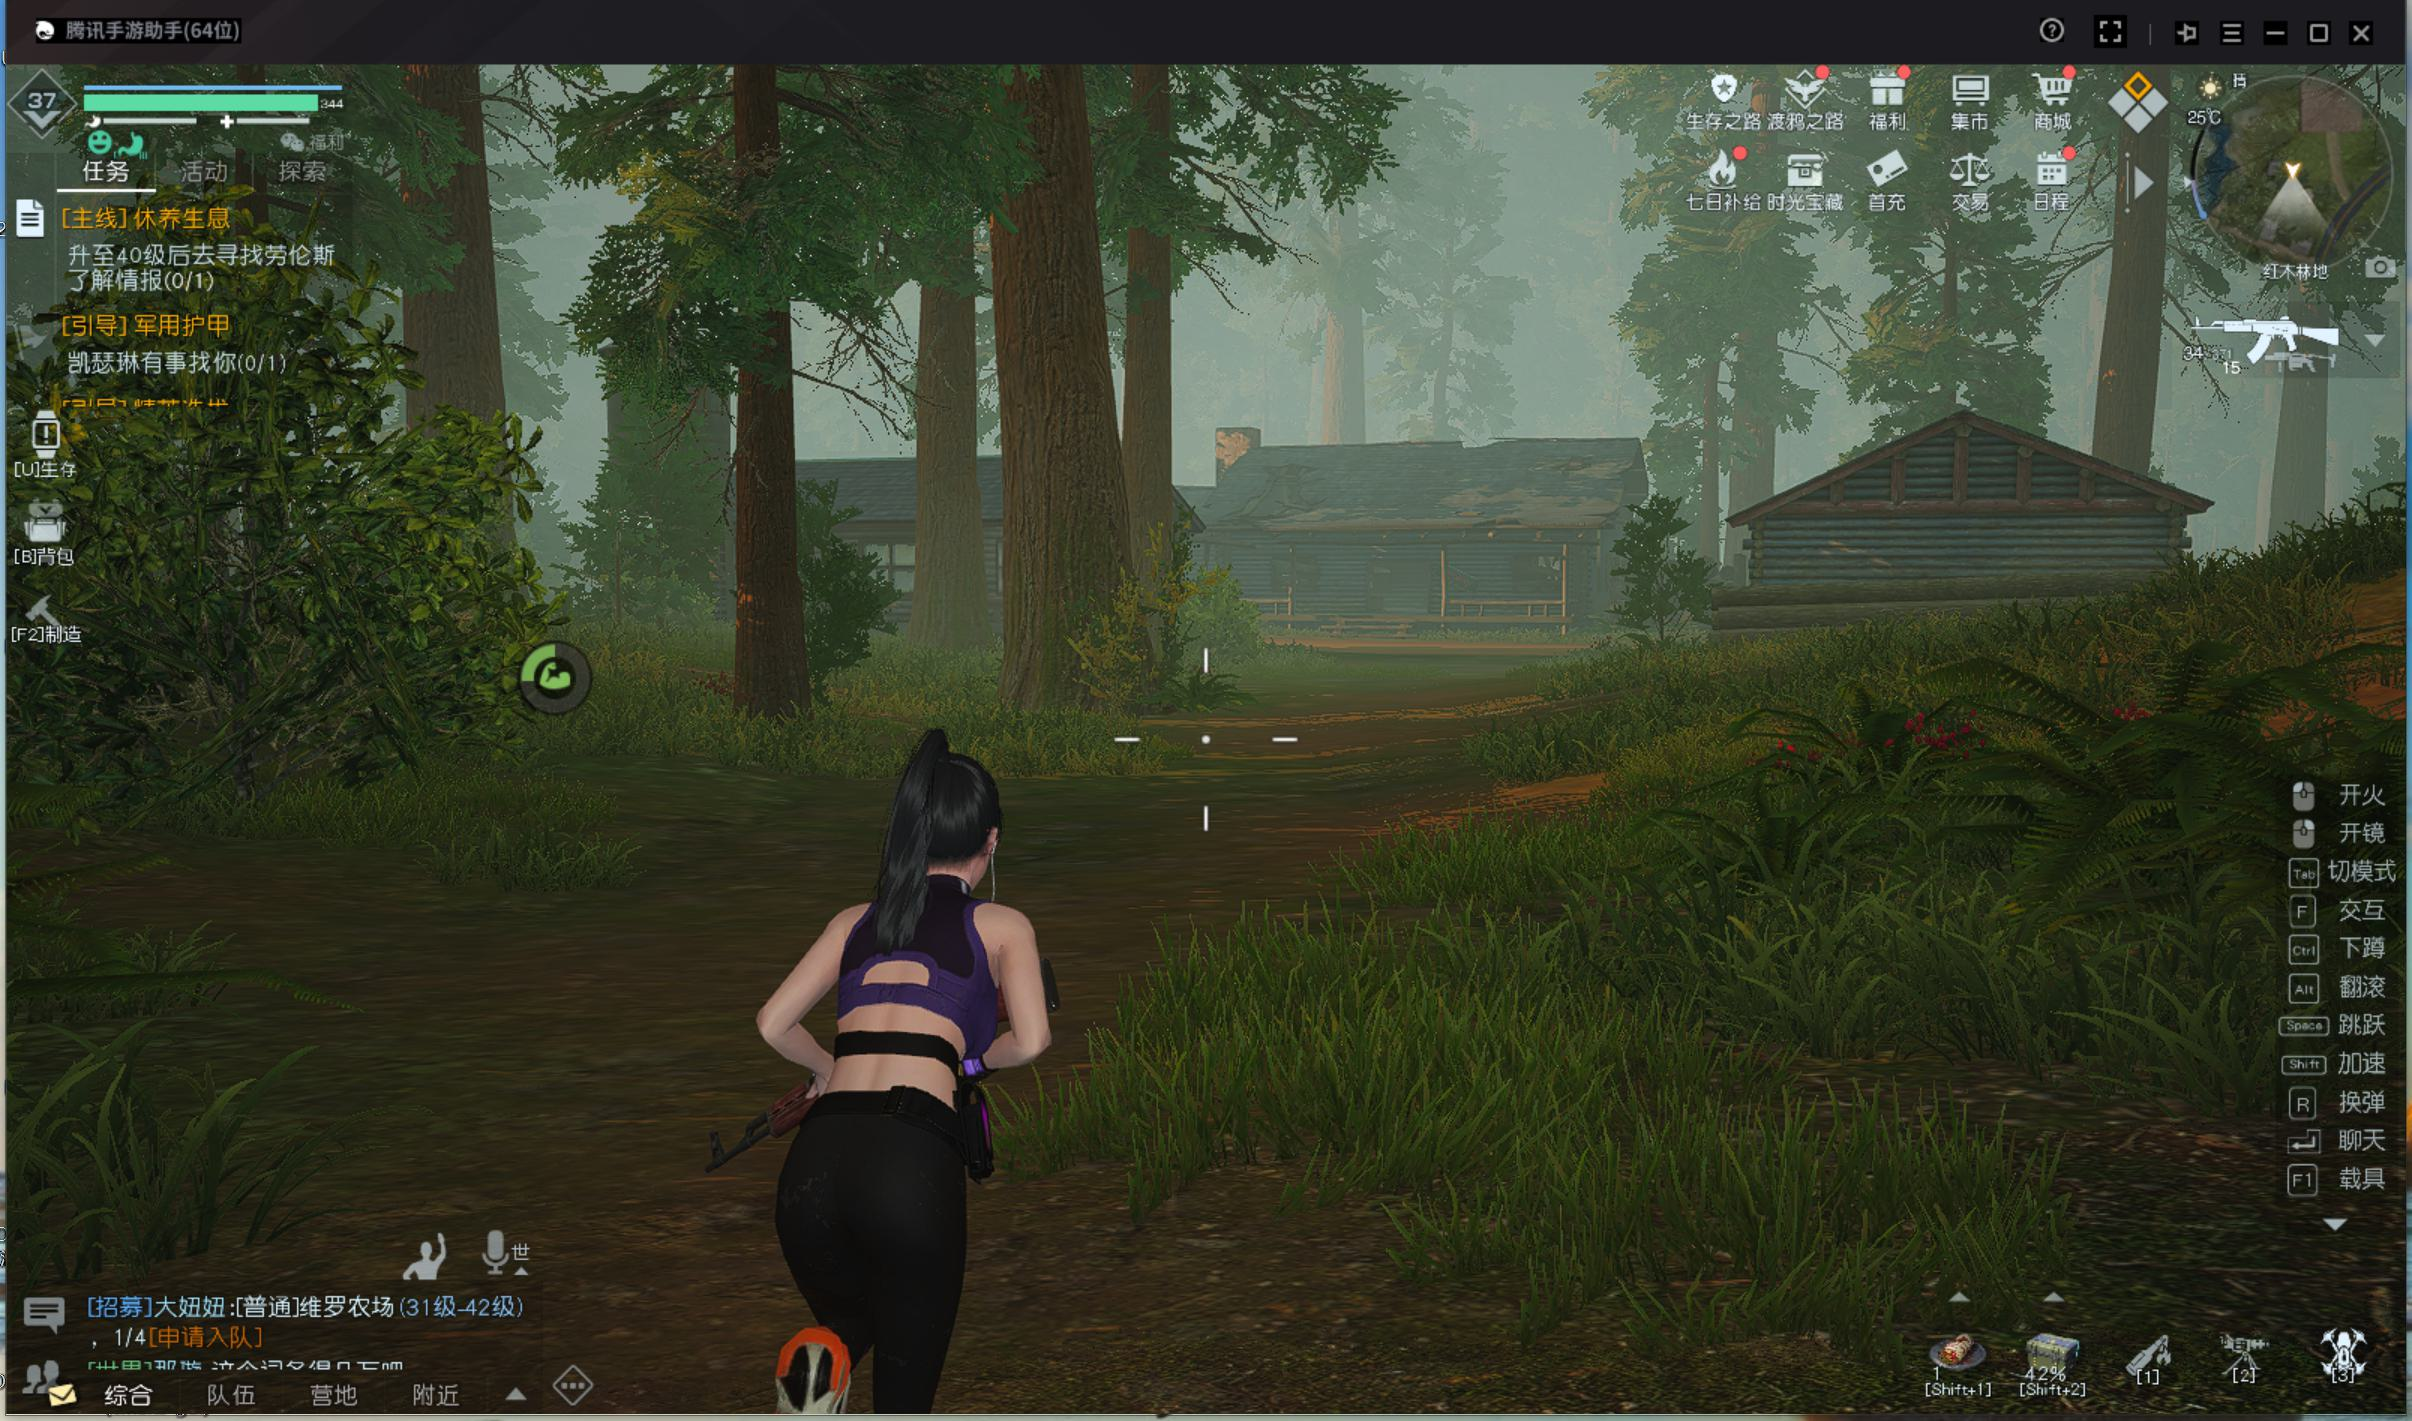tree: (988, 242, 1143, 727), (726, 262, 815, 743), (907, 232, 984, 673)
